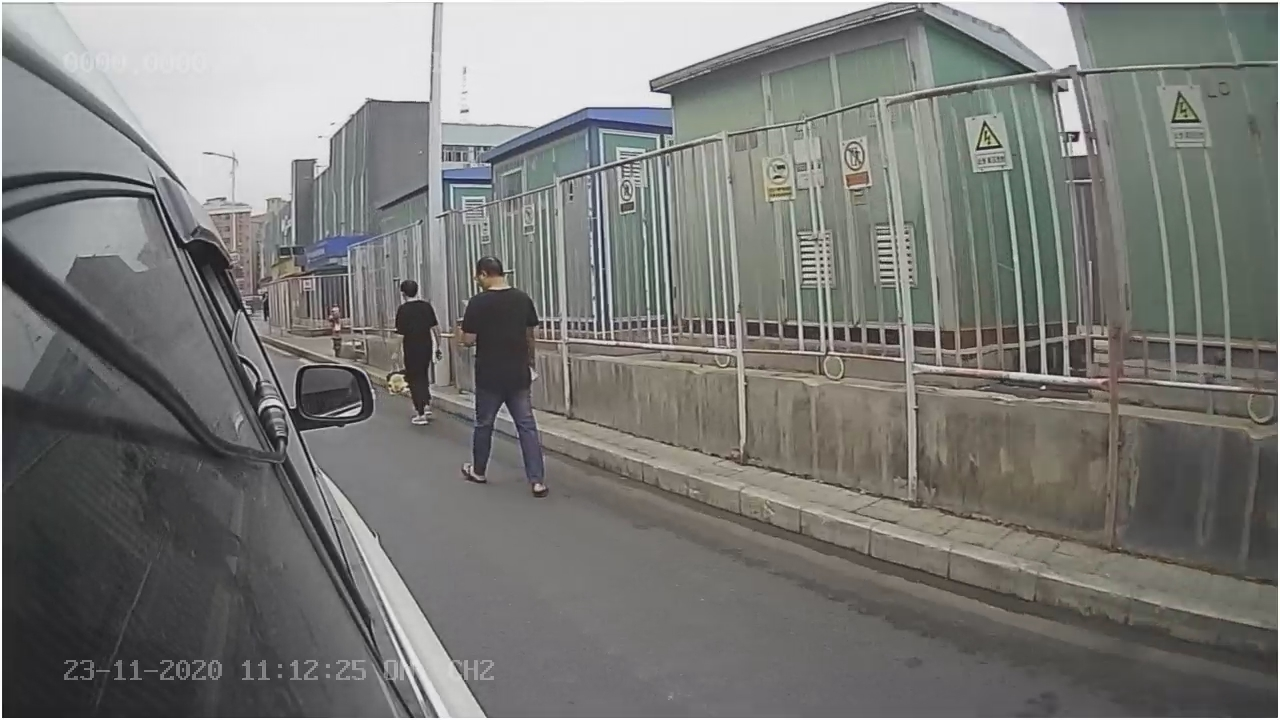person: (452, 252, 552, 504)
